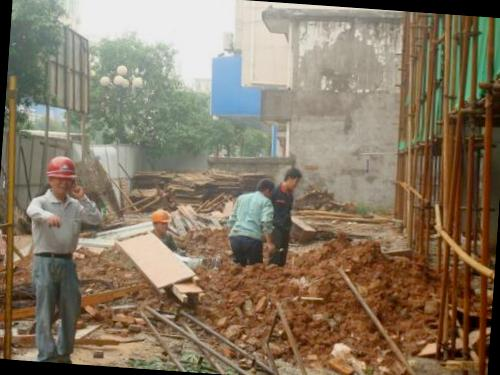no_helmet: (251, 173, 278, 199), (279, 164, 304, 192)
